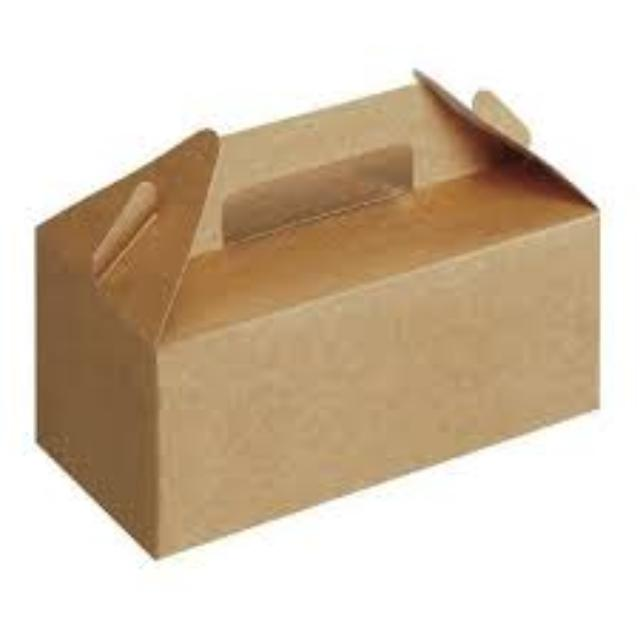cardboard paper: (34, 71, 592, 549)
